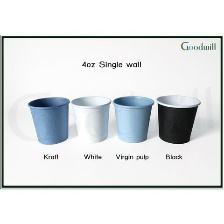paper_cup: (153, 91, 203, 148), (109, 91, 155, 146), (25, 92, 71, 146), (68, 92, 113, 145)
